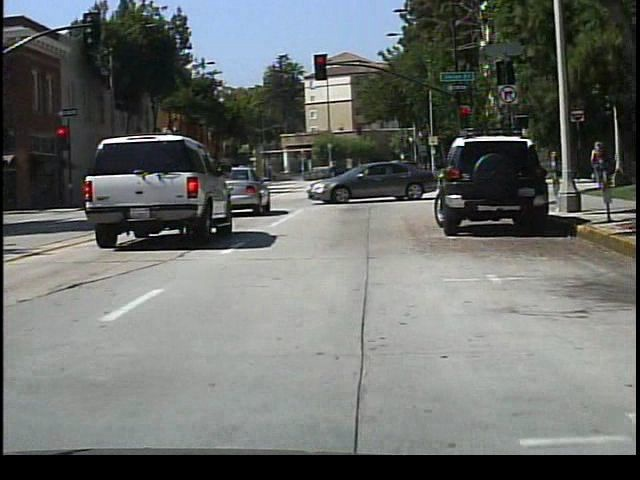person: (588, 137, 609, 192), (457, 150, 474, 187), (324, 158, 345, 179)
